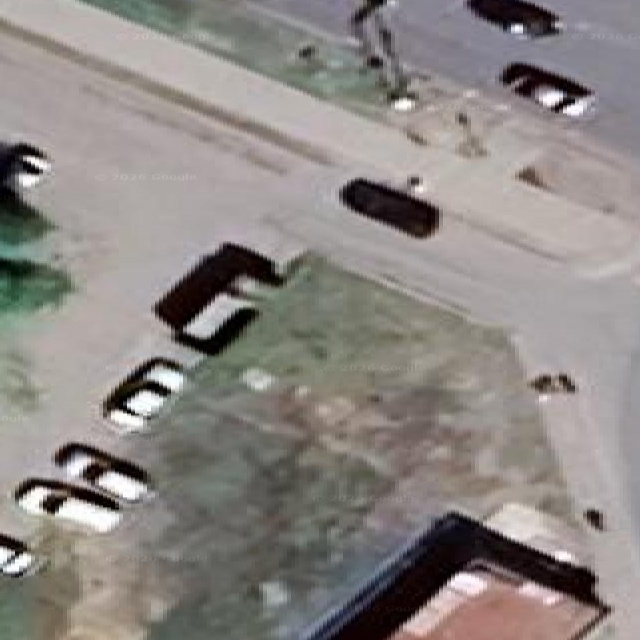car: (301, 512, 608, 639), (155, 232, 303, 352), (156, 244, 280, 353), (155, 243, 300, 329), (351, 0, 417, 111), (103, 357, 183, 432), (340, 178, 439, 236), (13, 479, 120, 532), (55, 443, 150, 500), (499, 64, 595, 116), (176, 292, 256, 352), (216, 233, 303, 283), (467, 0, 563, 35), (212, 243, 283, 284), (0, 143, 48, 192), (260, 235, 306, 281), (0, 533, 40, 576), (528, 372, 575, 399), (352, 0, 390, 26), (240, 367, 275, 391), (387, 88, 415, 111), (528, 373, 555, 393), (584, 507, 603, 531), (556, 372, 575, 392), (407, 176, 424, 192)
